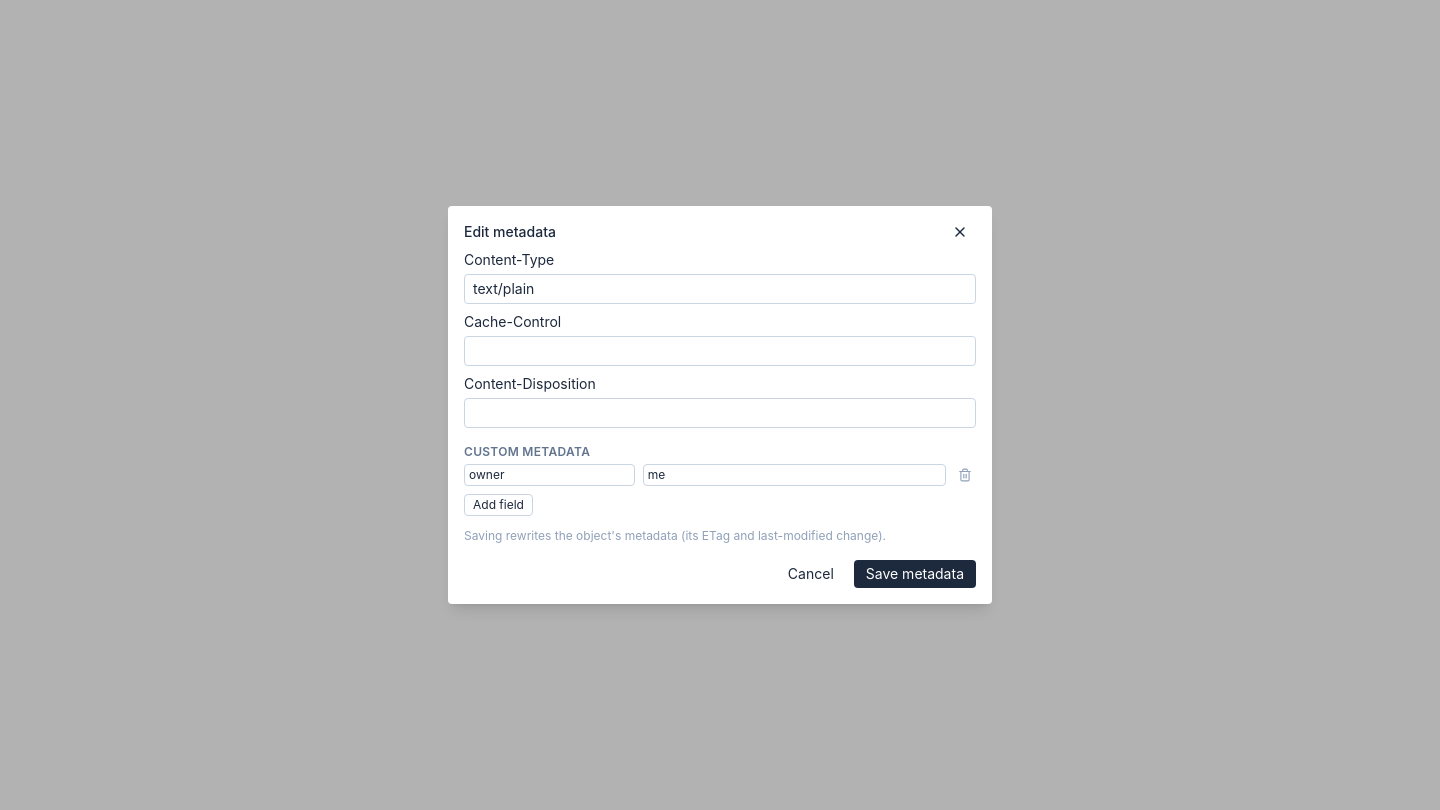
Test: MetadataDialog › shows an error toast and keeps dialog open when save fails
The width and height of the screenshot is (1440, 810).
Expected: the field labelled "Content-Type" is shown, top-left (464, 274), bottom-right (976, 304)
Click the button "Save metadata": coordinates (915, 574) top-left (854, 560), bottom-right (976, 588)
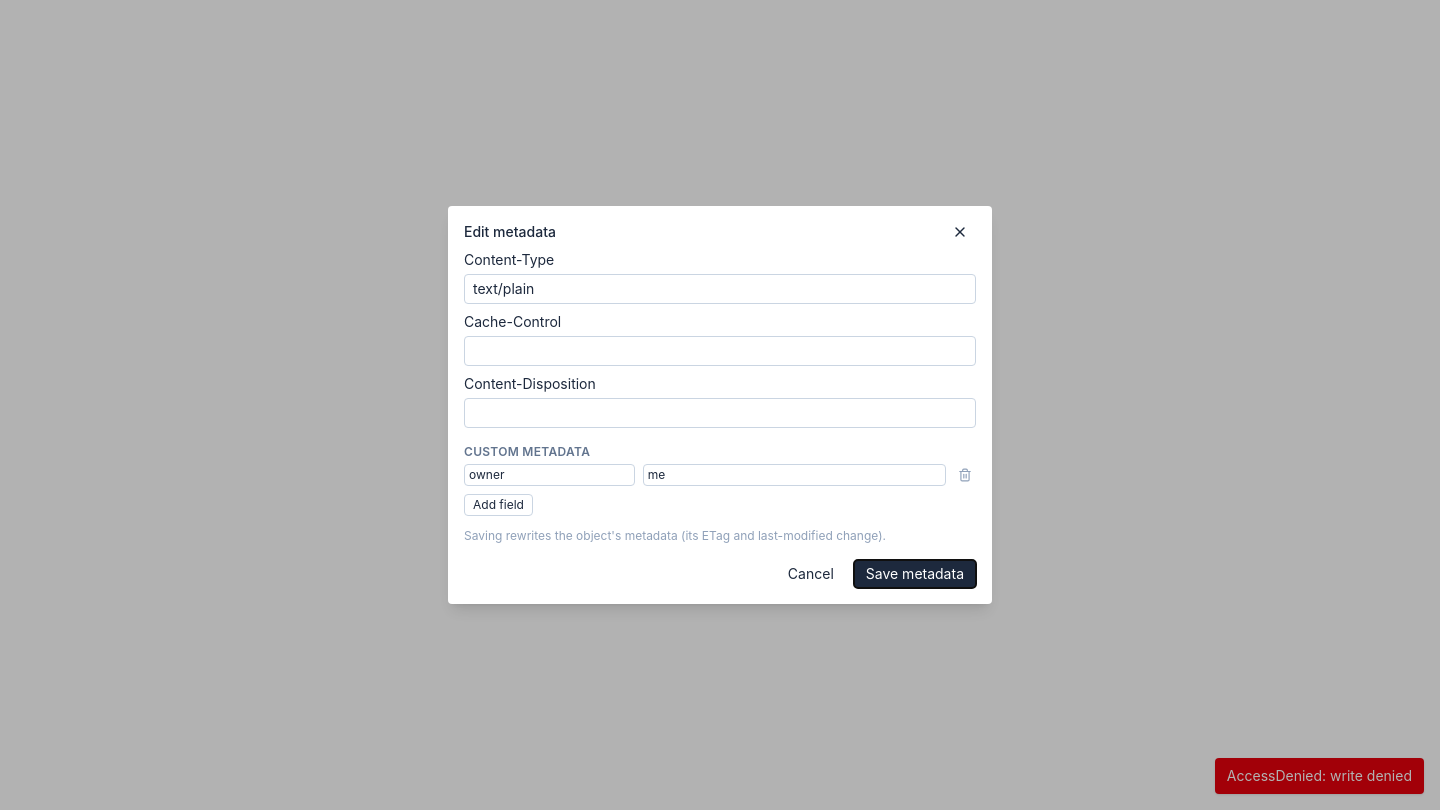
Expected: the text "AccessDenied: write denied" is shown, top-left (1215, 758), bottom-right (1424, 794)
